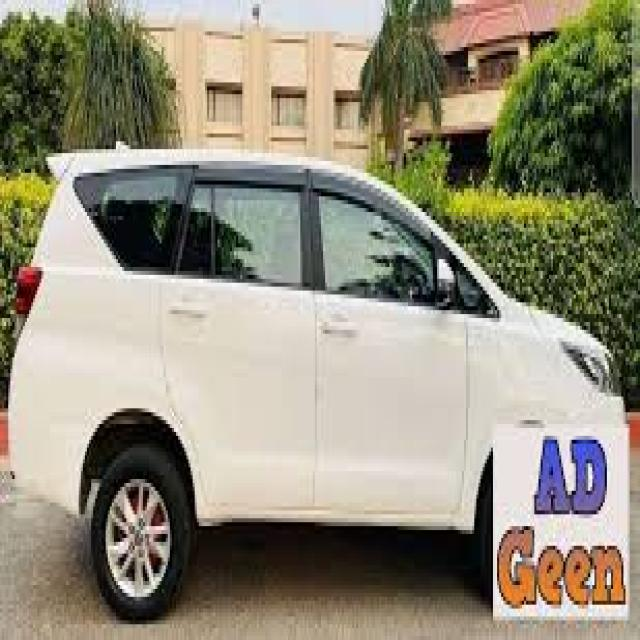light_vehicle: (9, 150, 627, 622)
